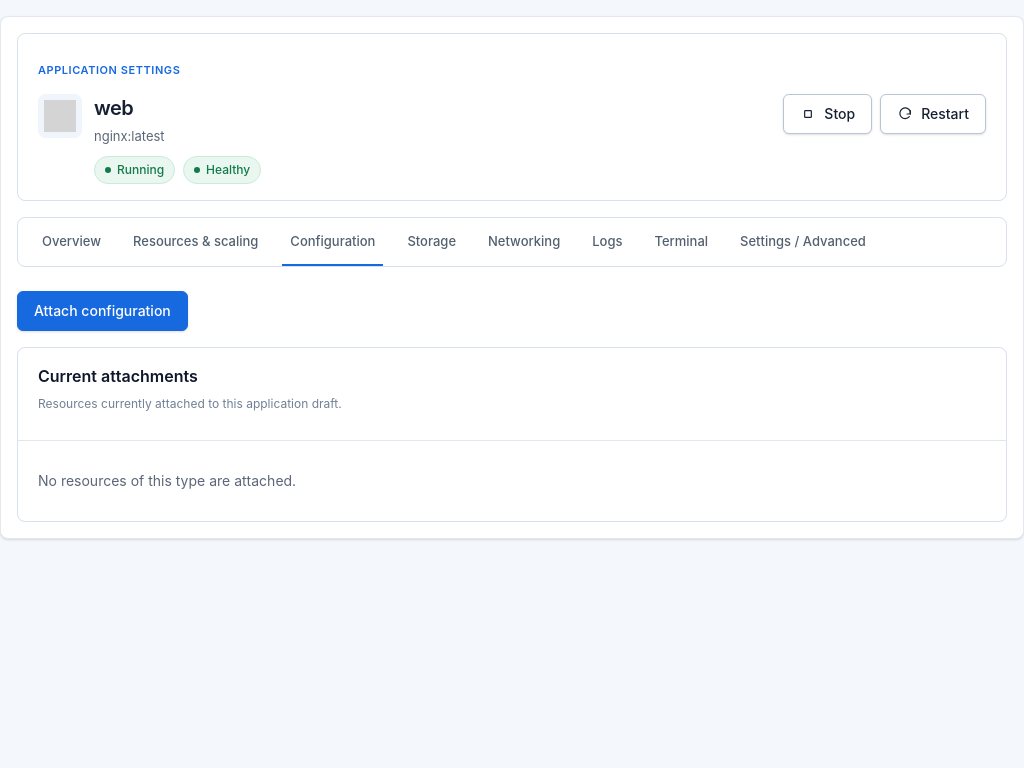
Test case: AppGroup task-oriented selection › uses resource names for attachments and does not offer detach without attachment IDs
Expected: the heading "web" is shown, left=94, top=96, right=133, bottom=120
Click the button "Attach configuration".
click(102, 311)  # box left=17, top=291, right=188, bottom=331
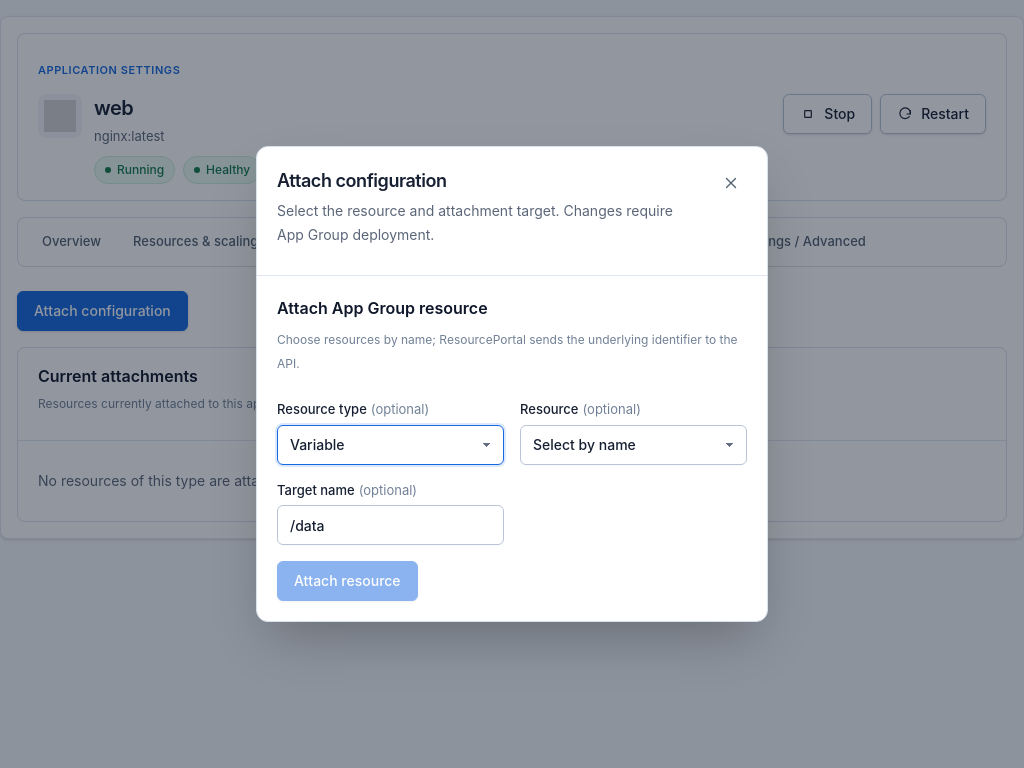
Expected: the text "No resources of this type are attached." is shown, left=38, top=472, right=296, bottom=489
Result: the dropdown labelled "Resource type" shows "Variable" at left=277, top=424, right=504, bottom=464
